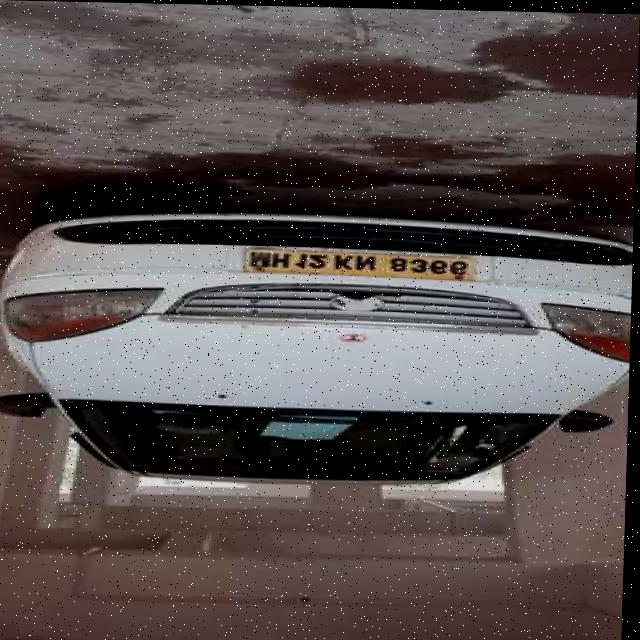plate: (242, 247, 476, 280)
